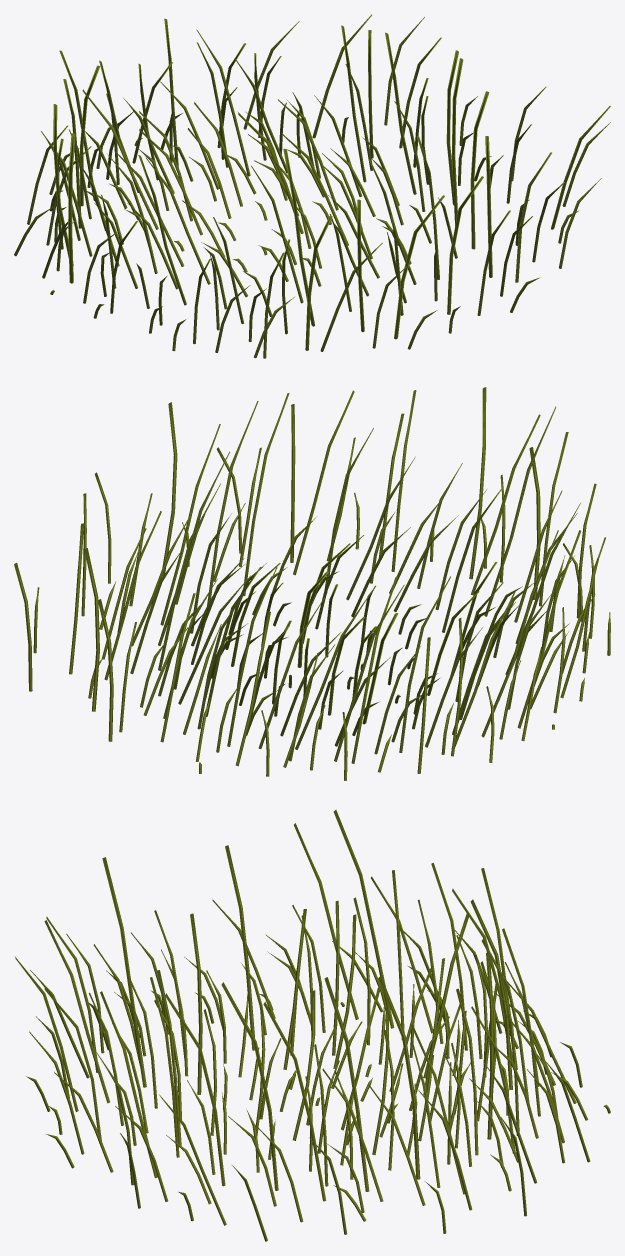
The model's file is smallgrass0.obj.
3 views of the same model, one above another, from view 1: azimuth 30°, elevation 25°; view 2: azimuth 150°, elevation 25°; view 3: azimuth 270°, elevation 25° (orthographic).
Parts seen in each view (by area): view 1: tree; view 2: tree; view 3: tree.
Boxes of the visible parts, box(x1,y1,x2,y2) form: tree: box(14, 14, 610, 358); tree: box(14, 387, 610, 780); tree: box(15, 809, 610, 1241).
Size of the model in its own units: 160 by 61.34 by 161.
Materials: 1 (1 with a texture image).
